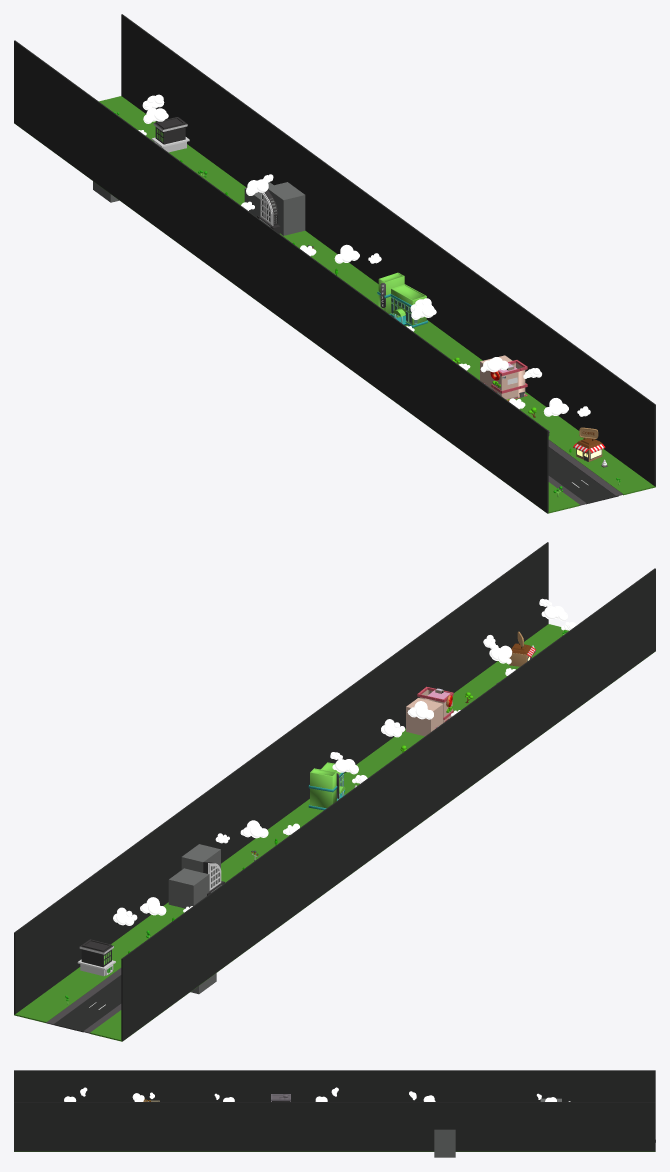
Rendered from city-final-2232.glb.
3 renders of one model, top to bottom at view 1: azimuth 30°, elevation 25°; view 2: azimuth 150°, elevation 25°; view 3: azimuth 270°, elevation 25°, orthographic. The views are drawn at different scales.
Parts seen in each view (by area): view 1: Cube.075, Cube.074, Cube.072, Cube.065, Cube.085, Cube.042, Home-right-top.001; view 2: Cube.075, Cube.074, Cube.072, Cube.065, Cube.084, Building-left, Cube.042, Cube.057, Cube.085, Home-right-top.001; view 3: Cube.074, Cube.075, Cube.085, Cube.072.
Boxes of the visible parts, left/top/right/bottom form: Cube.075: left=14, top=40, right=548, bottom=513; Cube.074: left=121, top=14, right=655, bottom=486; Cube.072: left=99, top=96, right=655, bottom=495; Cube.065: left=548, top=447, right=618, bottom=504; Cube.085: left=268, top=182, right=305, bottom=235; Cube.042: left=14, top=123, right=579, bottom=513; Home-right-top.001: left=153, top=117, right=187, bottom=144; Cube.075: left=121, top=568, right=655, bottom=1041; Cube.074: left=14, top=542, right=548, bottom=1014; Cube.072: left=14, top=624, right=568, bottom=1022; Cube.065: left=53, top=975, right=121, bottom=1032; Cube.084: left=168, top=868, right=209, bottom=908; Building-left: left=310, top=768, right=336, bottom=808; Cube.042: left=90, top=651, right=655, bottom=1041; Cube.057: left=406, top=698, right=443, bottom=736; Cube.085: left=181, top=844, right=220, bottom=872; Home-right-top.001: left=79, top=939, right=113, bottom=967; Cube.074: left=14, top=1102, right=655, bottom=1151; Cube.075: left=14, top=1070, right=655, bottom=1101; Cube.085: left=434, top=1129, right=455, bottom=1157; Cube.072: left=14, top=1151, right=655, bottom=1151.
Bounding box in the file's own units: 3.69 × 3.01 × 31.42.
